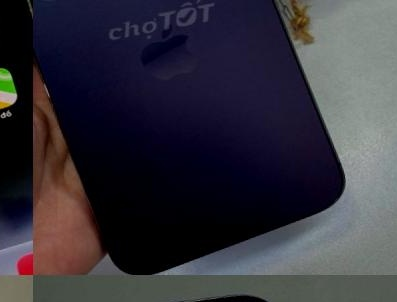screen_defect: (246, 278, 394, 302)
